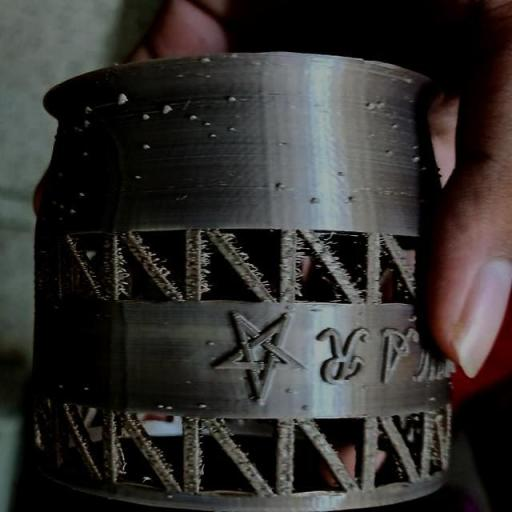blobs: (112, 90, 130, 107), (78, 101, 98, 116), (159, 101, 177, 115), (78, 146, 93, 162), (53, 379, 70, 393), (364, 99, 378, 116), (310, 194, 326, 208), (222, 93, 238, 106), (196, 55, 212, 68), (136, 110, 154, 121), (194, 400, 212, 411), (382, 146, 396, 160), (272, 179, 287, 192), (141, 138, 154, 153), (224, 122, 240, 134), (79, 119, 92, 133), (198, 338, 216, 348), (78, 383, 94, 394), (408, 152, 422, 164), (75, 189, 91, 199), (53, 170, 68, 180), (207, 131, 219, 143), (201, 120, 215, 130), (183, 112, 197, 122), (132, 172, 144, 183), (165, 400, 175, 412), (154, 400, 166, 410), (68, 206, 78, 216)
